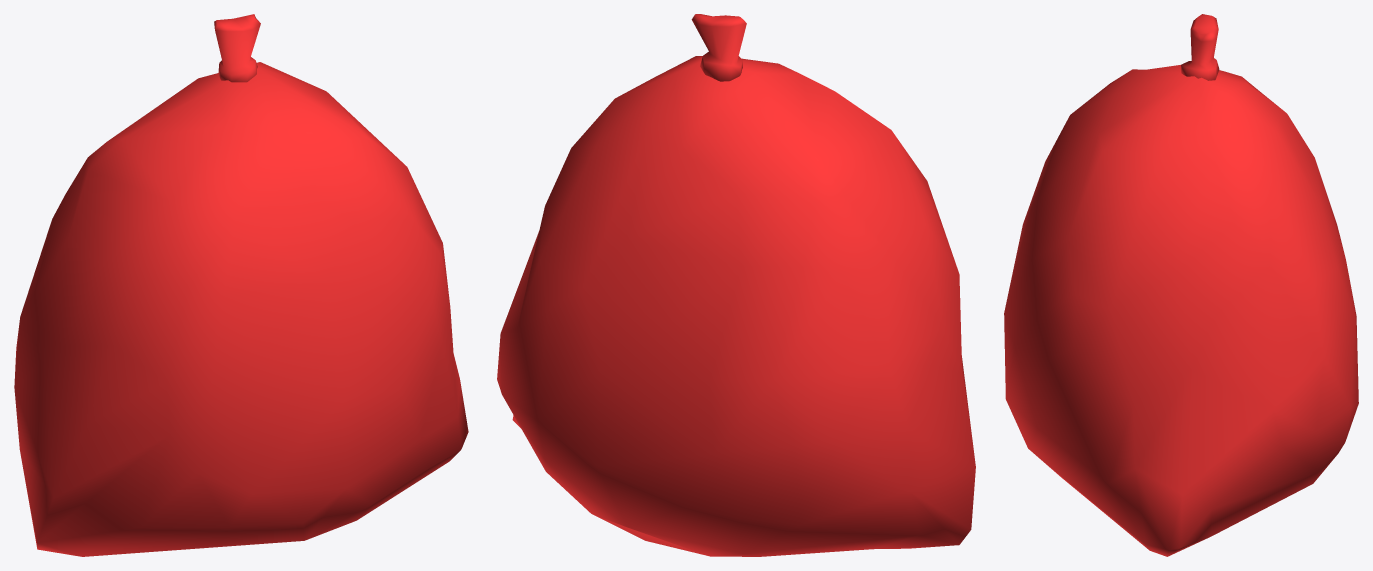
File: garbage_01.fbx
3 views of the same model, side by side, from view 1: azimuth 30°, elevation 25°; view 2: azimuth 150°, elevation 25°; view 3: azimuth 270°, elevation 25° (orthographic). The views are drawn at different scales.
Parts seen in each view (by area): view 1: Group46822; view 2: Group46822; view 3: Group46822.
Boxes of the visible parts, box(x1,y1,x2,y2) form: Group46822: box(14, 14, 468, 556); Group46822: box(497, 14, 975, 556); Group46822: box(1004, 14, 1358, 556).
Size of the model in its own units: 119 by 129 by 88.76.
